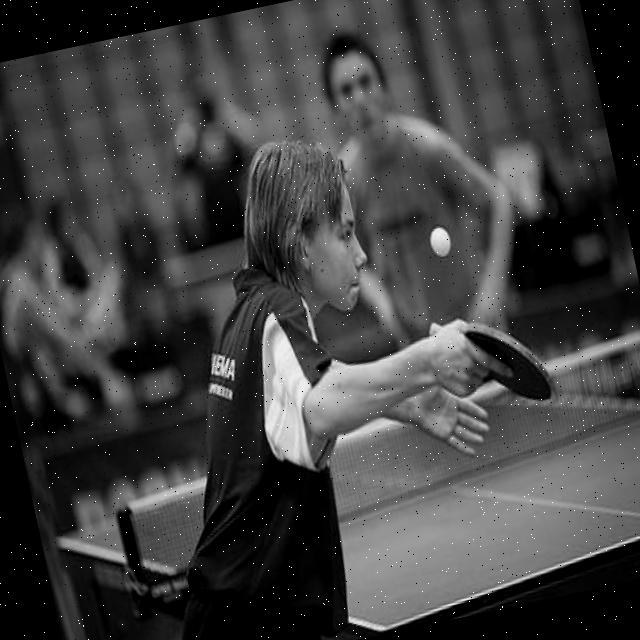ping-pong-ball: (423, 220, 454, 258)
